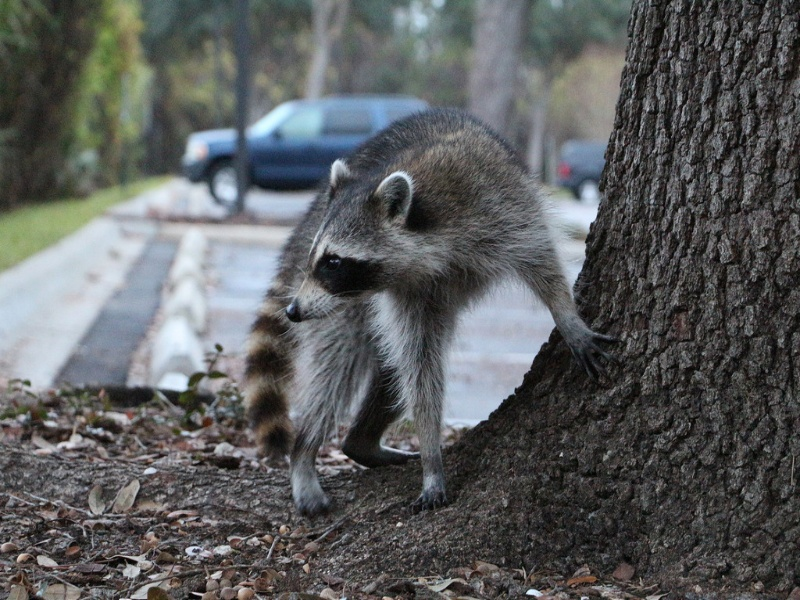raccoon: (237, 109, 623, 522)
